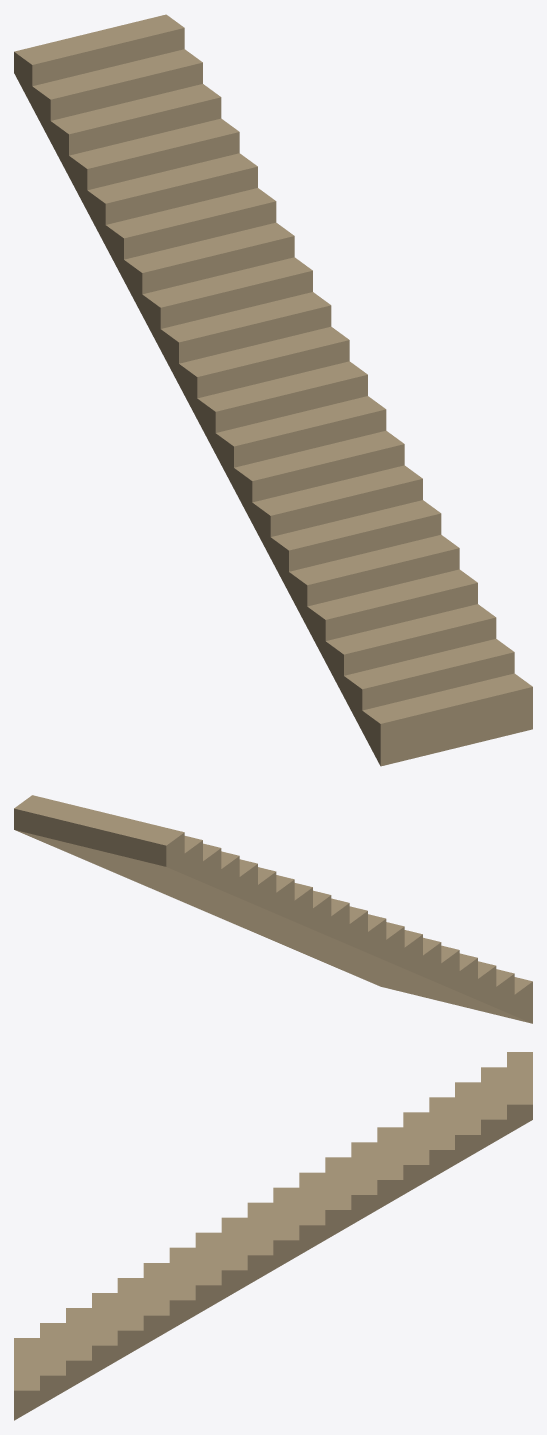
The model's file is MH_Stair_20_Steps.fbx.
3 views of the same model, one above another, from view 1: azimuth 30°, elevation 25°; view 2: azimuth 150°, elevation 25°; view 3: azimuth 270°, elevation 25° (orthographic). The views are drawn at different scales.
Parts seen in each view (by area): view 1: Body; view 2: Body; view 3: Body.
Part boxes in pixels (bbox=[...]): Body: bbox=[14, 14, 532, 766]; Body: bbox=[14, 795, 532, 1023]; Body: bbox=[14, 1052, 532, 1420].
Bounding box in the file's own units: 1.2 × 3.36 × 5.
